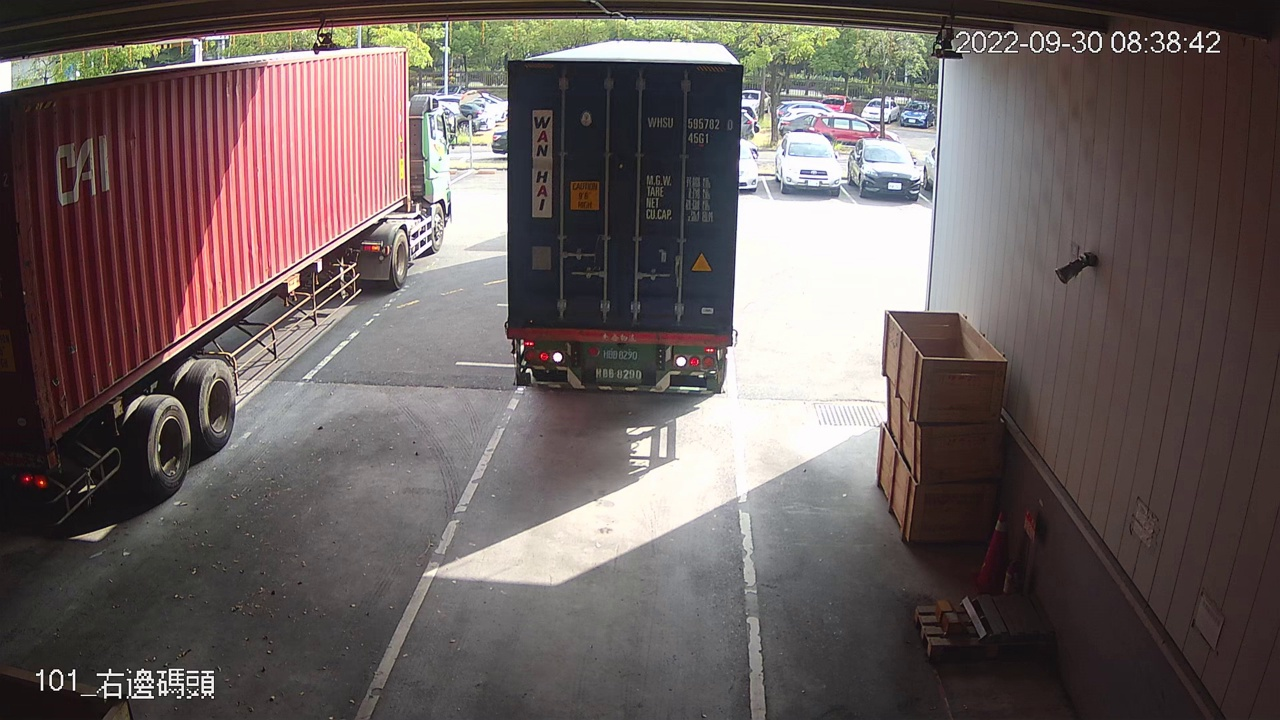container: (645, 110, 737, 150)
